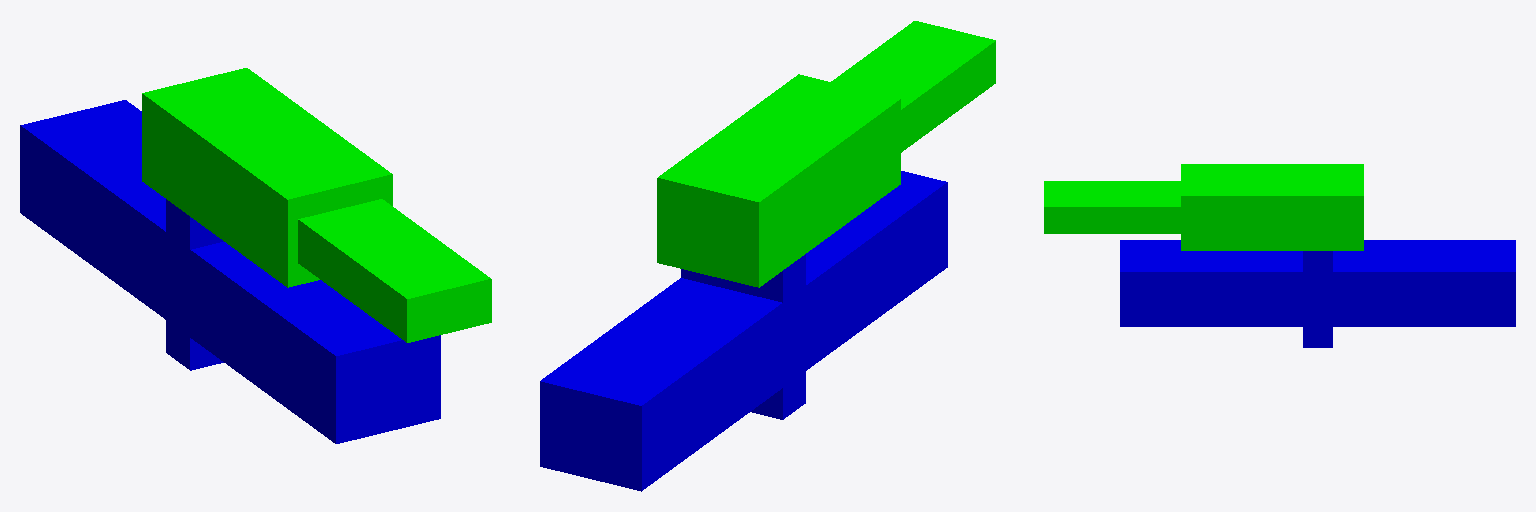
robot.urdf — robot:
<robot name = "robot">
    <link name="root">
        <inertial>
            <origin xyz="0.0 0.0 1.5" rpy="0 0 0"/>
            <mass value="1" />
            <inertia ixx="100" ixy="0" ixz="0" iyy="100" iyz="0" izz="100" />
        </inertial>
        <visual>
            <origin xyz="0.0 0.0 1.5" rpy="0 0 0"/>
            <geometry>
                <box size="0 0 0.0001" />
            </geometry>
            <material name="Green">
                <color rgba="0 1.0 0.0 1.0"/>
            </material>
        </visual>
        <collision>
            <origin xyz="0.0 0.0 1.5" rpy="0 0 0"/>
            <geometry>
                <box size="0 0 0.0001" />
            </geometry>
        </collision>
    </link>
    <joint name="root_000" type="revolute">
       <parent link="root"/>
       <child  link="000"/>
       <origin rpy="0 0 0" xyz="0.0 0.0 1.5" />
     <axis xyz="1 0 0"/>
       <limit effort="0.0" lower="-3.14159" upper="3.14159" velocity="0.0"/>
    </joint>
    <link name="000">
        <inertial>
            <origin xyz="0.0 0.15 0.0" rpy="0 0 0"/>
            <mass value="1" />
            <inertia ixx="100" ixy="0" ixz="0" iyy="100" iyz="0" izz="100" />
        </inertial>
        <visual>
            <origin xyz="0.0 0.15 0.0" rpy="0 0 0"/>
            <geometry>
                <box size="0.4 0.3 0.2" />
            </geometry>
            <material name="Green">
                <color rgba="0 1.0 0.0 1.0"/>
            </material>
        </visual>
        <collision>
            <origin xyz="0.0 0.15 0.0" rpy="0 0 0"/>
            <geometry>
                <box size="0.4 0.3 0.2" />
            </geometry>
        </collision>
    </link>
    <joint name="000_010" type="revolute">
       <parent link="000"/>
       <child  link="010"/>
       <origin rpy="0 0 0" xyz="0.0 0.3 -0.0" />
     <axis xyz="0 1 0"/>
       <limit effort="0.0" lower="-3.14159" upper="3.14159" velocity="0.0"/>
    </joint>
    <link name="010">
        <inertial>
            <origin xyz="0.0 0.15 -0.0" rpy="0 0 0"/>
            <mass value="1" />
            <inertia ixx="100" ixy="0" ixz="0" iyy="100" iyz="0" izz="100" />
        </inertial>
        <visual>
            <origin xyz="0.0 0.15 -0.0" rpy="0 0 0"/>
            <geometry>
                <box size="0.4 0.3 0.2" />
            </geometry>
            <material name="Green">
                <color rgba="0 1.0 0.0 1.0"/>
            </material>
        </visual>
        <collision>
            <origin xyz="0.0 0.15 -0.0" rpy="0 0 0"/>
            <geometry>
                <box size="0.4 0.3 0.2" />
            </geometry>
        </collision>
    </link>
    <joint name="010_020" type="revolute">
       <parent link="010"/>
       <child  link="020"/>
       <origin rpy="0 0 0" xyz="0.0 0.3 -0.0" />
     <axis xyz="0 1 0"/>
       <limit effort="0.0" lower="-3.14159" upper="3.14159" velocity="0.0"/>
    </joint>
    <link name="020">
        <inertial>
            <origin xyz="0.0 0.15 -0.0" rpy="0 0 0"/>
            <mass value="1" />
            <inertia ixx="100" ixy="0" ixz="0" iyy="100" iyz="0" izz="100" />
        </inertial>
        <visual>
            <origin xyz="0.0 0.15 -0.0" rpy="0 0 0"/>
            <geometry>
                <box size="0.4 0.3 0.2" />
            </geometry>
            <material name="Green">
                <color rgba="0 1.0 0.0 1.0"/>
            </material>
        </visual>
        <collision>
            <origin xyz="0.0 0.15 -0.0" rpy="0 0 0"/>
            <geometry>
                <box size="0.4 0.3 0.2" />
            </geometry>
        </collision>
    </link>
    <joint name="020_020-100" type="revolute">
       <parent link="020"/>
       <child  link="020-100"/>
       <origin rpy="0 0 0" xyz="0.0 0.3 -0.0" />
     <axis xyz="0 1 0"/>
       <limit effort="0.0" lower="-3.14159" upper="3.14159" velocity="0.0"/>
    </joint>
    <link name="020-100">
        <inertial>
            <origin xyz="0.0 0.3 -0.0" rpy="0 0 0"/>
            <mass value="1" />
            <inertia ixx="100" ixy="0" ixz="0" iyy="100" iyz="0" izz="100" />
        </inertial>
        <visual>
            <origin xyz="0.0 0.3 -0.0" rpy="0 0 0"/>
            <geometry>
                <box size="0.5 0.6 0.4" />
            </geometry>
            <material name="Green">
                <color rgba="0 1.0 0.0 1.0"/>
            </material>
        </visual>
        <collision>
            <origin xyz="0.0 0.3 -0.0" rpy="0 0 0"/>
            <geometry>
                <box size="0.5 0.6 0.4" />
            </geometry>
        </collision>
    </link>
    <joint name="020-100_020-110" type="revolute">
       <parent link="020-100"/>
       <child  link="020-110"/>
       <origin rpy="0 0 0" xyz="0.0 0.6 -0.0" />
     <axis xyz="0 1 0"/>
       <limit effort="0.0" lower="-3.14159" upper="3.14159" velocity="0.0"/>
    </joint>
    <link name="020-110">
        <inertial>
            <origin xyz="0.0 0.3 -0.0" rpy="0 0 0"/>
            <mass value="1" />
            <inertia ixx="100" ixy="0" ixz="0" iyy="100" iyz="0" izz="100" />
        </inertial>
        <visual>
            <origin xyz="0.0 0.3 -0.0" rpy="0 0 0"/>
            <geometry>
                <box size="0.5 0.6 0.4" />
            </geometry>
            <material name="Green">
                <color rgba="0 1.0 0.0 1.0"/>
            </material>
        </visual>
        <collision>
            <origin xyz="0.0 0.3 -0.0" rpy="0 0 0"/>
            <geometry>
                <box size="0.5 0.6 0.4" />
            </geometry>
        </collision>
    </link>
    <joint name="020-110_020-110-200" type="revolute">
       <parent link="020-110"/>
       <child  link="020-110-200"/>
       <origin rpy="0 0 0" xyz="0.0 0.3 -0.2" />
     <axis xyz="0 0 1"/>
       <limit effort="0.0" lower="-3.14159" upper="3.14159" velocity="0.0"/>
    </joint>
    <link name="020-110-200">
        <inertial>
            <origin xyz="0.0 0.0 -0.35" rpy="0 0 0"/>
            <mass value="1" />
            <inertia ixx="100" ixy="0" ixz="0" iyy="100" iyz="0" izz="100" />
        </inertial>
        <visual>
            <origin xyz="0.0 0.0 -0.35" rpy="0 0 0"/>
            <geometry>
                <box size="0.5 0.2 0.7" />
            </geometry>
            <material name="Blue">
                <color rgba="0 0.0 1.0 1.0"/>
            </material>
        </visual>
        <collision>
            <origin xyz="0.0 0.0 -0.35" rpy="0 0 0"/>
            <geometry>
                <box size="0.5 0.2 0.7" />
            </geometry>
        </collision>
    </link>
    <joint name="020-110-200_020-110-200-300" type="revolute">
       <parent link="020-110-200"/>
       <child  link="020-110-200-300"/>
       <origin rpy="0 0 0" xyz="0.0 0.1 -0.35" />
     <axis xyz="0 1 0"/>
       <limit effort="0.0" lower="-3.14159" upper="3.14159" velocity="0.0"/>
    </joint>
    <link name="020-110-200-300">
        <inertial>
            <origin xyz="0.0 0.2 -0.0" rpy="0 0 0"/>
            <mass value="1" />
            <inertia ixx="100" ixy="0" ixz="0" iyy="100" iyz="0" izz="100" />
        </inertial>
        <visual>
            <origin xyz="0.0 0.2 -0.0" rpy="0 0 0"/>
            <geometry>
                <box size="0.5 0.4 0.4" />
            </geometry>
            <material name="Blue">
                <color rgba="0 0.0 1.0 1.0"/>
            </material>
        </visual>
        <collision>
            <origin xyz="0.0 0.2 -0.0" rpy="0 0 0"/>
            <geometry>
                <box size="0.5 0.4 0.4" />
            </geometry>
        </collision>
    </link>
    <joint name="020-110-200-300_020-110-200-310" type="revolute">
       <parent link="020-110-200-300"/>
       <child  link="020-110-200-310"/>
       <origin rpy="0 0 0" xyz="0.0 0.4 -0.0" />
     <axis xyz="0 1 0"/>
       <limit effort="0.0" lower="-3.14159" upper="3.14159" velocity="0.0"/>
    </joint>
    <link name="020-110-200-310">
        <inertial>
            <origin xyz="0.0 0.2 -0.0" rpy="0 0 0"/>
            <mass value="1" />
            <inertia ixx="100" ixy="0" ixz="0" iyy="100" iyz="0" izz="100" />
        </inertial>
        <visual>
            <origin xyz="0.0 0.2 -0.0" rpy="0 0 0"/>
            <geometry>
                <box size="0.5 0.4 0.4" />
            </geometry>
            <material name="Blue">
                <color rgba="0 0.0 1.0 1.0"/>
            </material>
        </visual>
        <collision>
            <origin xyz="0.0 0.2 -0.0" rpy="0 0 0"/>
            <geometry>
                <box size="0.5 0.4 0.4" />
            </geometry>
        </collision>
    </link>
    <joint name="020-110-200-310_020-110-200-320" type="revolute">
       <parent link="020-110-200-310"/>
       <child  link="020-110-200-320"/>
       <origin rpy="0 0 0" xyz="0.0 0.4 -0.0" />
     <axis xyz="0 1 0"/>
       <limit effort="0.0" lower="-3.14159" upper="3.14159" velocity="0.0"/>
    </joint>
    <link name="020-110-200-320">
        <inertial>
            <origin xyz="0.0 0.2 -0.0" rpy="0 0 0"/>
            <mass value="1" />
            <inertia ixx="100" ixy="0" ixz="0" iyy="100" iyz="0" izz="100" />
        </inertial>
        <visual>
            <origin xyz="0.0 0.2 -0.0" rpy="0 0 0"/>
            <geometry>
                <box size="0.5 0.4 0.4" />
            </geometry>
            <material name="Blue">
                <color rgba="0 0.0 1.0 1.0"/>
            </material>
        </visual>
        <collision>
            <origin xyz="0.0 0.2 -0.0" rpy="0 0 0"/>
            <geometry>
                <box size="0.5 0.4 0.4" />
            </geometry>
        </collision>
    </link>
    <joint name="020-110-200_020-110-200-301" type="revolute">
       <parent link="020-110-200"/>
       <child  link="020-110-200-301"/>
       <origin rpy="0 0 0" xyz="0.0 -0.1 -0.35" />
     <axis xyz="0 1 0"/>
       <limit effort="0.0" lower="-3.14159" upper="3.14159" velocity="0.0"/>
    </joint>
    <link name="020-110-200-301">
        <inertial>
            <origin xyz="0.0 -0.2 -0.0" rpy="0 0 0"/>
            <mass value="1" />
            <inertia ixx="100" ixy="0" ixz="0" iyy="100" iyz="0" izz="100" />
        </inertial>
        <visual>
            <origin xyz="0.0 -0.2 -0.0" rpy="0 0 0"/>
            <geometry>
                <box size="0.5 0.4 0.4" />
            </geometry>
            <material name="Blue">
                <color rgba="0 0.0 1.0 1.0"/>
            </material>
        </visual>
        <collision>
            <origin xyz="0.0 -0.2 -0.0" rpy="0 0 0"/>
            <geometry>
                <box size="0.5 0.4 0.4" />
            </geometry>
        </collision>
    </link>
    <joint name="020-110-200-301_020-110-200-311" type="revolute">
       <parent link="020-110-200-301"/>
       <child  link="020-110-200-311"/>
       <origin rpy="0 0 0" xyz="0.0 -0.4 -0.0" />
     <axis xyz="0 1 0"/>
       <limit effort="0.0" lower="-3.14159" upper="3.14159" velocity="0.0"/>
    </joint>
    <link name="020-110-200-311">
        <inertial>
            <origin xyz="0.0 -0.2 -0.0" rpy="0 0 0"/>
            <mass value="1" />
            <inertia ixx="100" ixy="0" ixz="0" iyy="100" iyz="0" izz="100" />
        </inertial>
        <visual>
            <origin xyz="0.0 -0.2 -0.0" rpy="0 0 0"/>
            <geometry>
                <box size="0.5 0.4 0.4" />
            </geometry>
            <material name="Blue">
                <color rgba="0 0.0 1.0 1.0"/>
            </material>
        </visual>
        <collision>
            <origin xyz="0.0 -0.2 -0.0" rpy="0 0 0"/>
            <geometry>
                <box size="0.5 0.4 0.4" />
            </geometry>
        </collision>
    </link>
    <joint name="020-110-200-311_020-110-200-321" type="revolute">
       <parent link="020-110-200-311"/>
       <child  link="020-110-200-321"/>
       <origin rpy="0 0 0" xyz="0.0 -0.4 -0.0" />
     <axis xyz="0 1 0"/>
       <limit effort="0.0" lower="-3.14159" upper="3.14159" velocity="0.0"/>
    </joint>
    <link name="020-110-200-321">
        <inertial>
            <origin xyz="0.0 -0.2 -0.0" rpy="0 0 0"/>
            <mass value="1" />
            <inertia ixx="100" ixy="0" ixz="0" iyy="100" iyz="0" izz="100" />
        </inertial>
        <visual>
            <origin xyz="0.0 -0.2 -0.0" rpy="0 0 0"/>
            <geometry>
                <box size="0.5 0.4 0.4" />
            </geometry>
            <material name="Blue">
                <color rgba="0 0.0 1.0 1.0"/>
            </material>
        </visual>
        <collision>
            <origin xyz="0.0 -0.2 -0.0" rpy="0 0 0"/>
            <geometry>
                <box size="0.5 0.4 0.4" />
            </geometry>
        </collision>
    </link>
</robot>

--- Render facts (derived) ---
3 views of the same robot in one strip: view 1: azimuth 30°, elevation 25°; view 2: azimuth 150°, elevation 25°; view 3: azimuth 270°, elevation 25° (orthographic).
Model robot with 13 links and 12 joints (12 revolute), rooted at root, posed every joint at zero.
Visible links, largest first — view 1: [phone redacted] (×7), 020-100, 020-110, 000, 020, 010; view 2: [phone redacted] (×7), 020-110, 020-100, 000, 010, 020; view 3: [phone redacted] (×7), 020-110, 020-100, 000, 010, 020.
Link boxes in pixels (box(x1,y1,x2,y2)): [phone redacted] (×7): box(20, 100, 440, 443); 020-100: box(215, 121, 392, 287); 020-110: box(142, 68, 318, 233); 000: box(371, 252, 491, 342); 020: box(298, 199, 417, 289); 010: box(335, 225, 453, 315); [phone redacted] (×7): box(540, 171, 947, 491); 020-110: box(657, 126, 829, 287); 020-100: box(729, 74, 900, 235); 000: box(880, 21, 995, 108); 010: box(845, 46, 960, 133); 020: box(831, 72, 925, 152); [phone redacted] (×7): box(1120, 240, 1515, 347); 020-110: box(1272, 164, 1363, 250); 020-100: box(1181, 164, 1271, 250); 000: box(1044, 181, 1089, 233); 010: box(1090, 181, 1135, 233); 020: box(1136, 181, 1180, 233).
Bounding box of the posed robot: 0.5 × 3.1 × 1.1 m (x, y, z).
Geometry: primitives only (box / cylinder / sphere), no mesh files.
